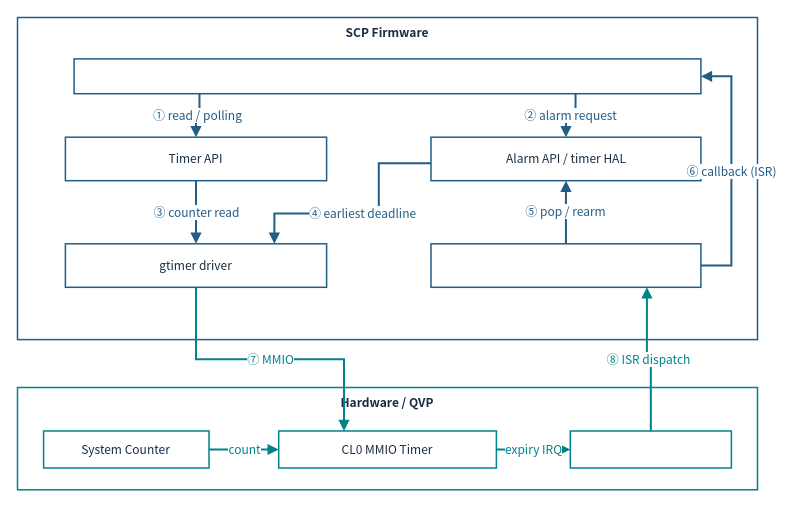
This 794x508 diagram has some shape labels left out. Here are the shapes that lost their labels. From the top down, the centre of each, then its label:
pixel 387 76: Module clients / Alarm callback
pixel 565 265: Framework interrupt / timer_isr
pixel 650 449: GIC / CL0 CPU
